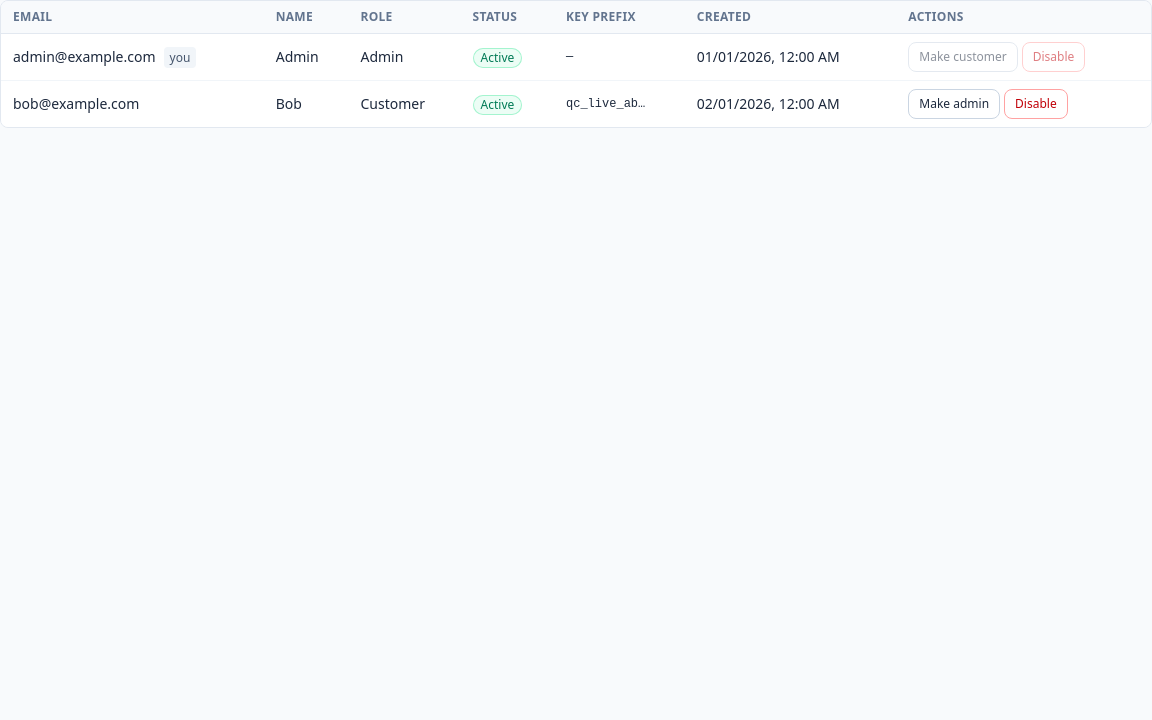
Test: admin UsersTable › shows the mapped error message when the service refuses (self_lockout)
Click the button "Make admin": (954, 104) [908, 89, 1000, 119]
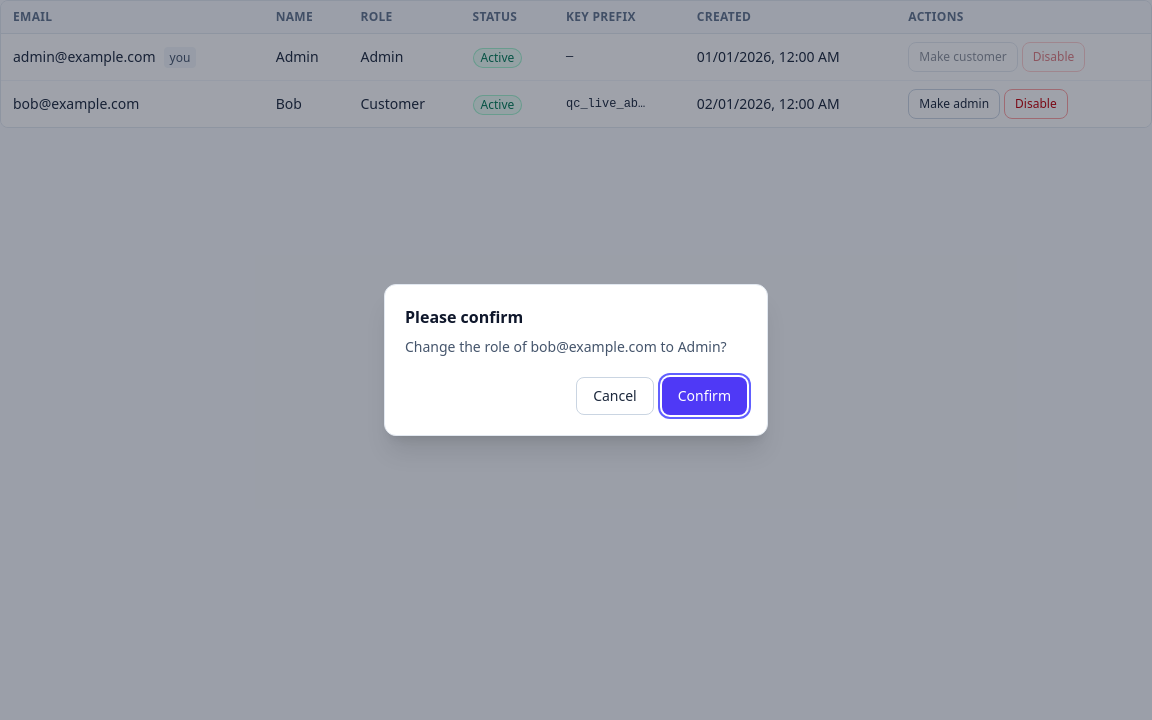
Click the button "Confirm": (704, 396) [662, 377, 747, 415]
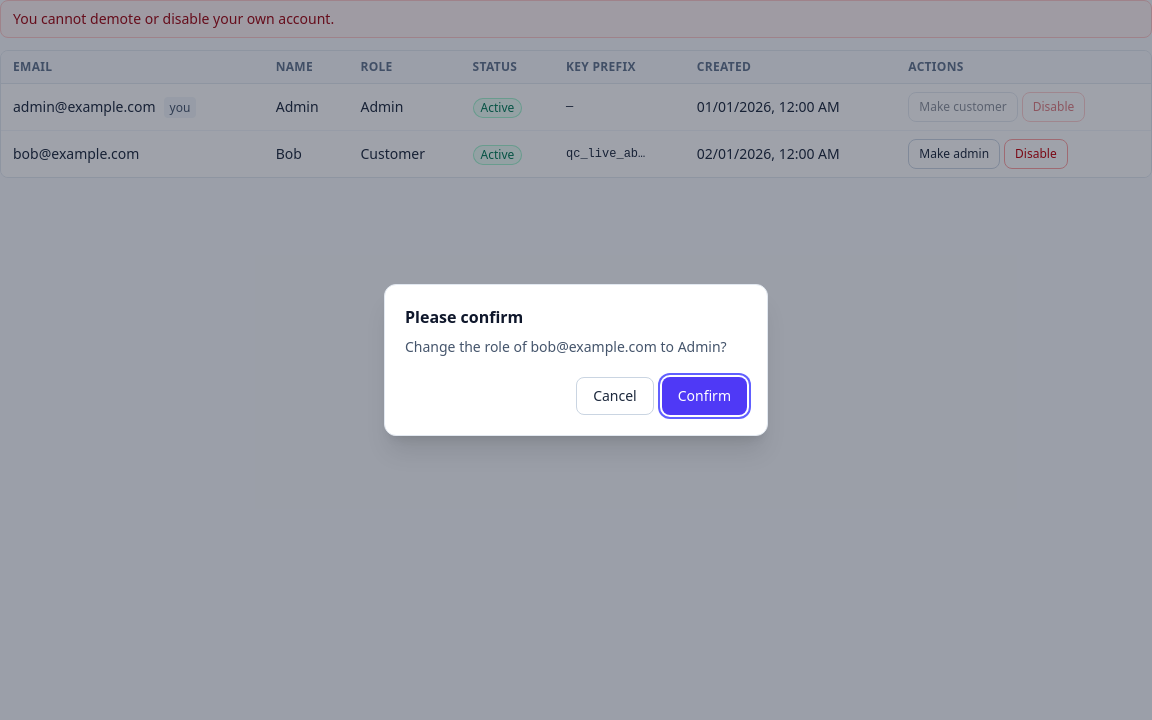
Expected: the message reads "You cannot demote or disable your own account.", [13, 9, 334, 28]
